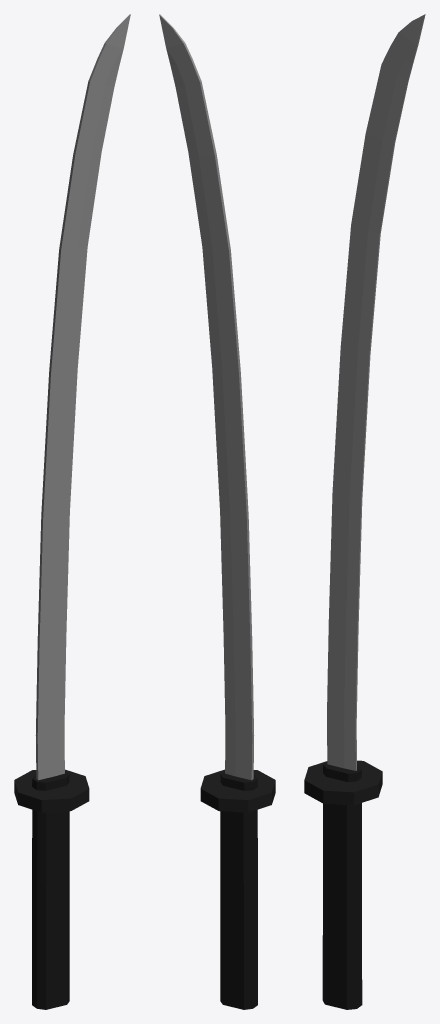
The model's file is Katana.fbx.
3 renders of one model, left to right at view 1: azimuth 30°, elevation 25°; view 2: azimuth 150°, elevation 25°; view 3: azimuth 330°, elevation 25°, orthographic. The views are drawn at different scales.
Visible parts, largest first — view 1: Katana; view 2: Katana; view 3: Katana.
Boxes of the visible parts, <box> form: Katana: <box>14,14,130,1009</box>; Katana: <box>159,14,275,1009</box>; Katana: <box>304,14,425,1009</box>.
Bounding box in the file's own units: 408 × 3369 × 245.
1 material, 1 textured.
